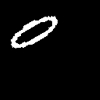chain: (11, 16, 56, 47)
